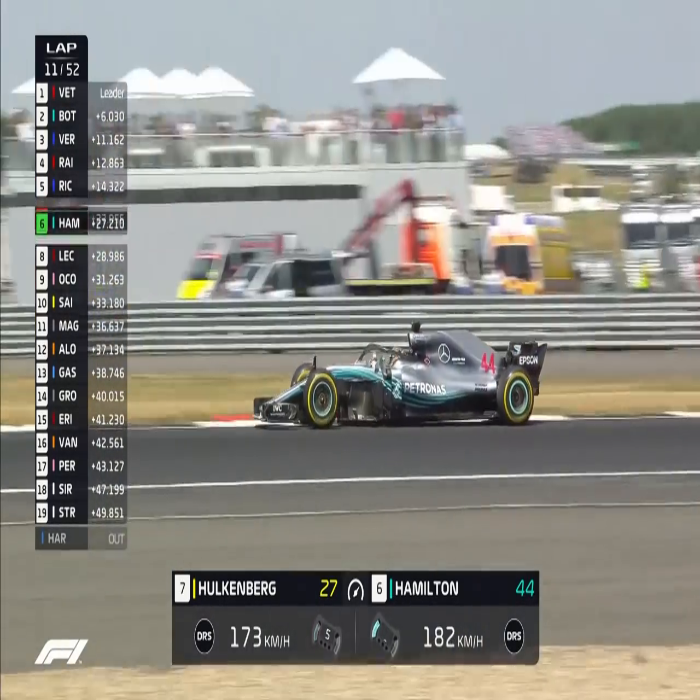f1_car: (245, 315, 557, 443)
